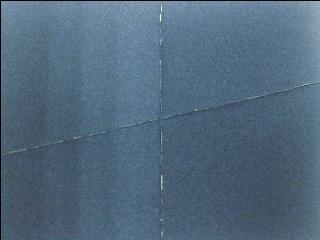crack: (0, 79, 319, 159), (151, 0, 173, 240)
